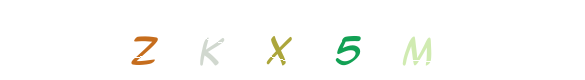5: (281, 0, 361, 80)
K: (217, 0, 297, 80)
M: (308, 0, 388, 80)
X: (252, 0, 332, 80)
Z: (104, 0, 184, 80)
